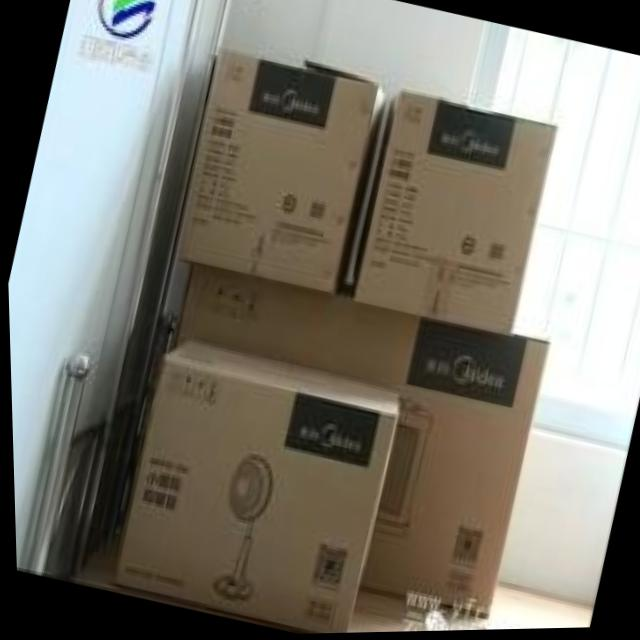box: (170, 266, 548, 623), (108, 341, 395, 635), (344, 95, 557, 338), (176, 47, 385, 294)
